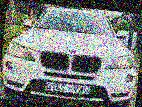car: (0, 2, 142, 107)
